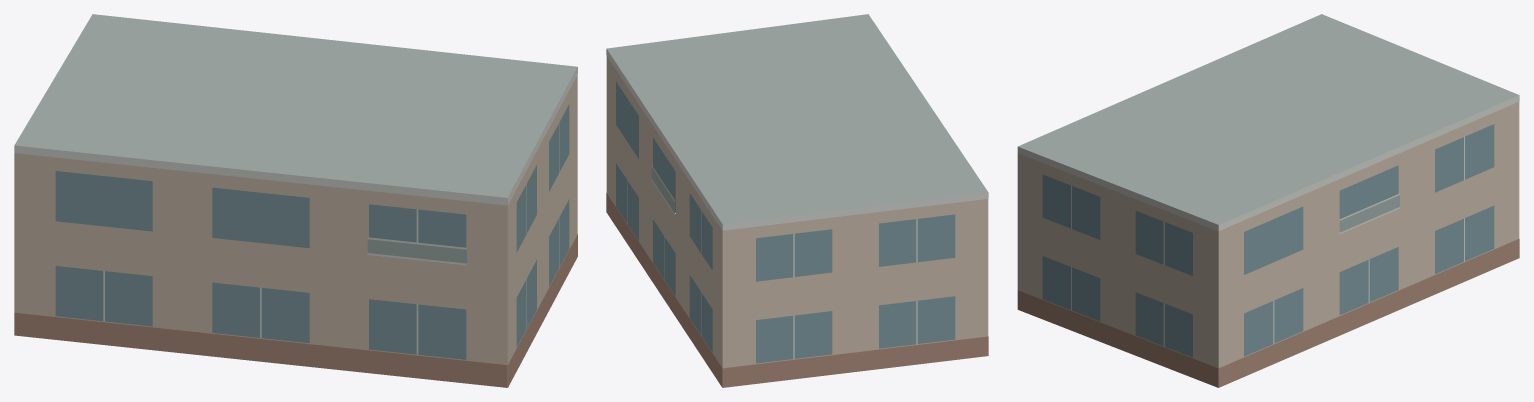
The model's file is survey-upis-33023552.glb.
3 views of the same model, side by side, from view 1: azimuth 30°, elevation 25°; view 2: azimuth 150°, elevation 25°; view 3: azimuth 270°, elevation 25° (orthographic). The views are drawn at different scales.
Parts seen in each view (by area): view 1: survey-upis-33023552.tmp; view 2: survey-upis-33023552.tmp; view 3: survey-upis-33023552.tmp.
Boxes of the visible parts, <box> form: survey-upis-33023552.tmp: <box>14,14,577,387</box>; survey-upis-33023552.tmp: <box>606,14,988,387</box>; survey-upis-33023552.tmp: <box>1017,14,1519,387</box>.
Size of the model in its own units: 16.93 by 6.1 by 17.02.
